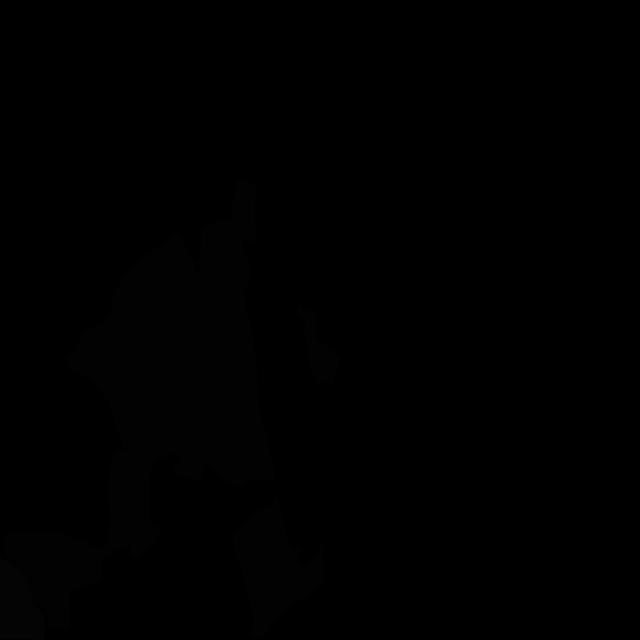cardboard: (100, 234, 223, 520), (2, 448, 160, 631), (198, 177, 275, 489), (232, 498, 325, 639), (64, 324, 109, 401), (298, 305, 341, 384)
soft_plastic: (0, 557, 45, 640)
